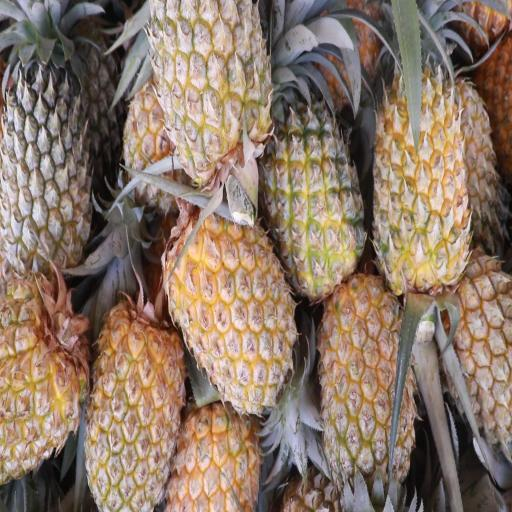------------------------------: (252, 60, 368, 305), (144, 0, 274, 190)
Pineapple - v8 v1: (157, 184, 298, 413), (364, 4, 470, 296), (83, 265, 188, 512), (316, 261, 418, 512), (0, 250, 88, 480), (435, 218, 512, 450), (162, 353, 266, 512)
